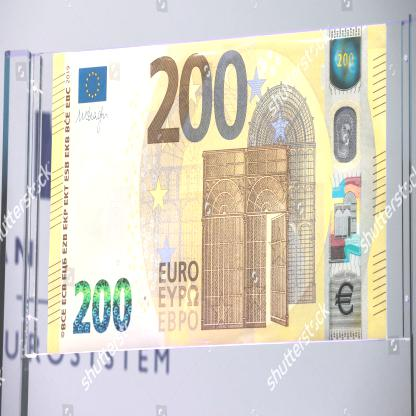euro_banknote: (49, 24, 389, 358)
